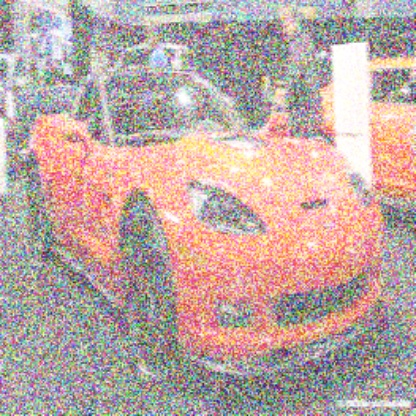Vehicle: (26, 68, 395, 398)
